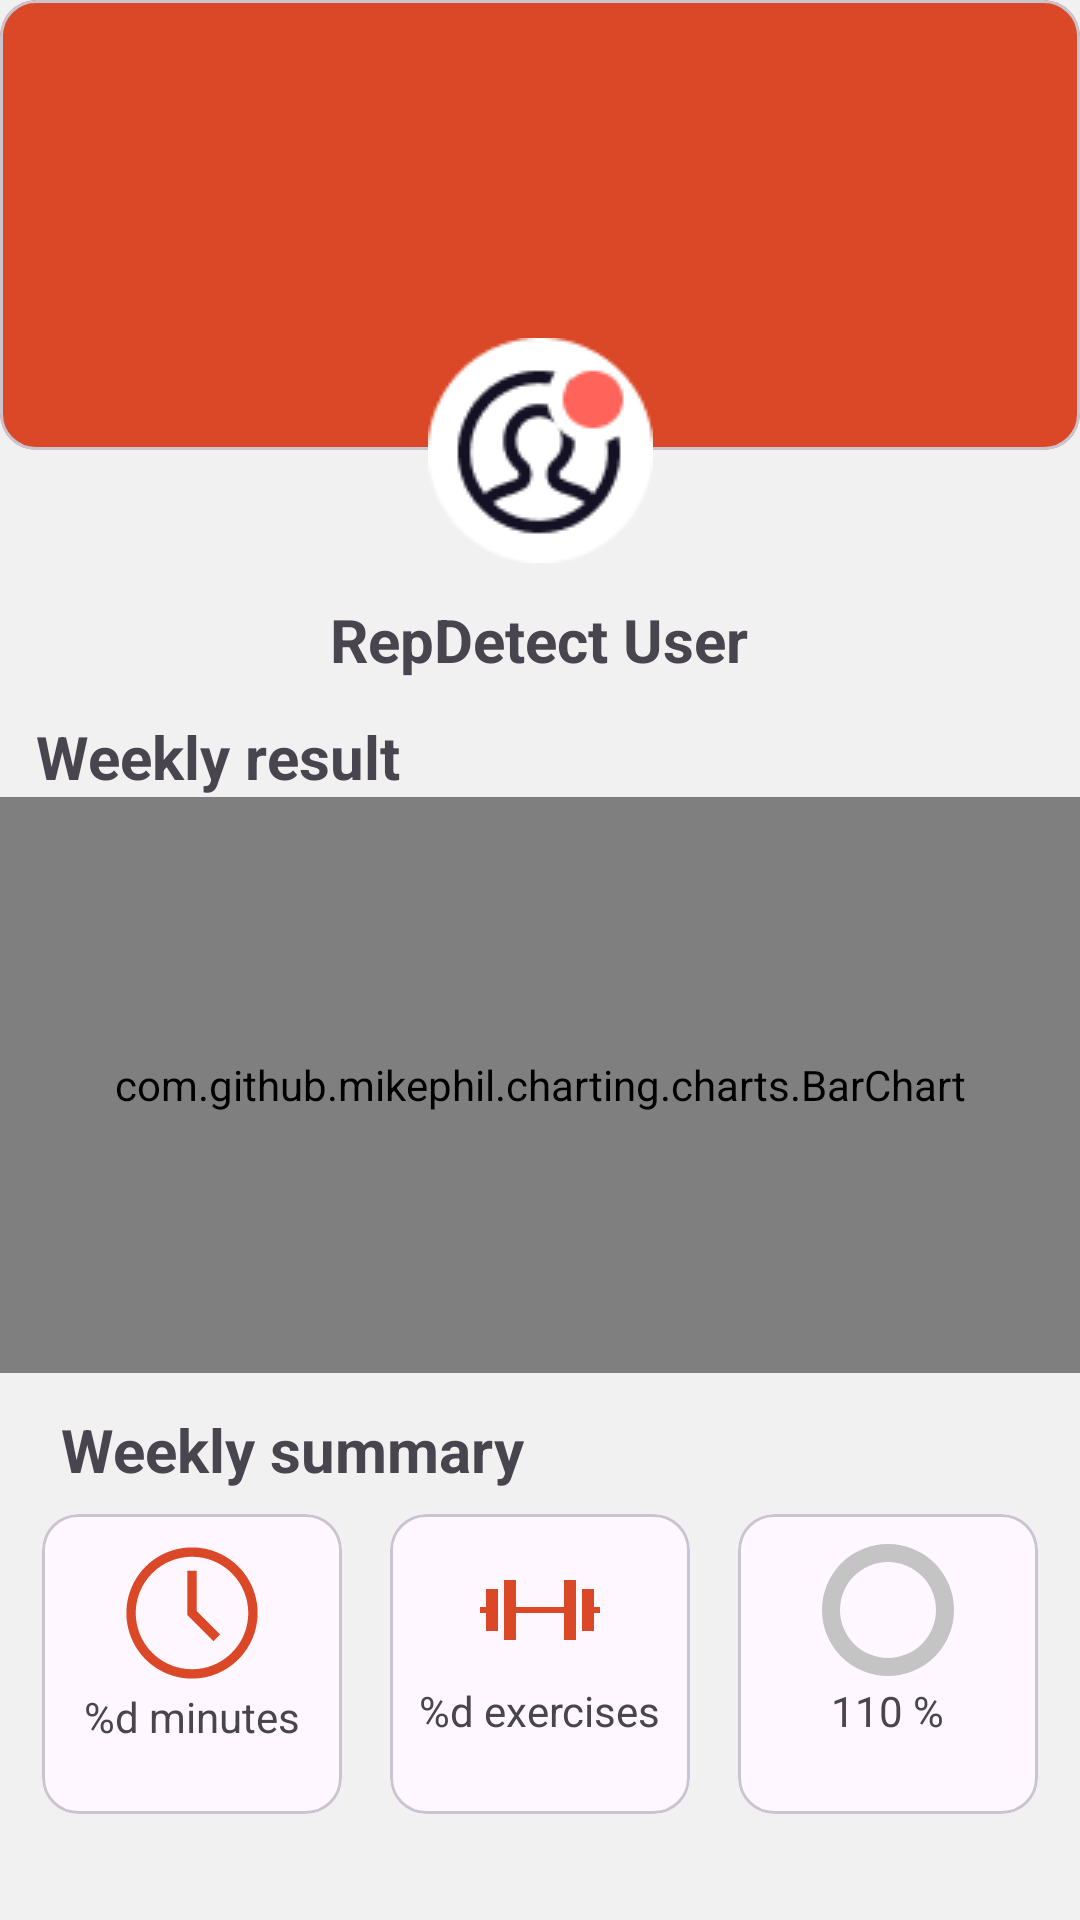

Where icons sit on this 1080*1920 app screen, as Rect(x1, y1, x2, y2):
dumbell: Rect(480, 1580, 600, 1640)
time: Rect(126, 1547, 258, 1679)
